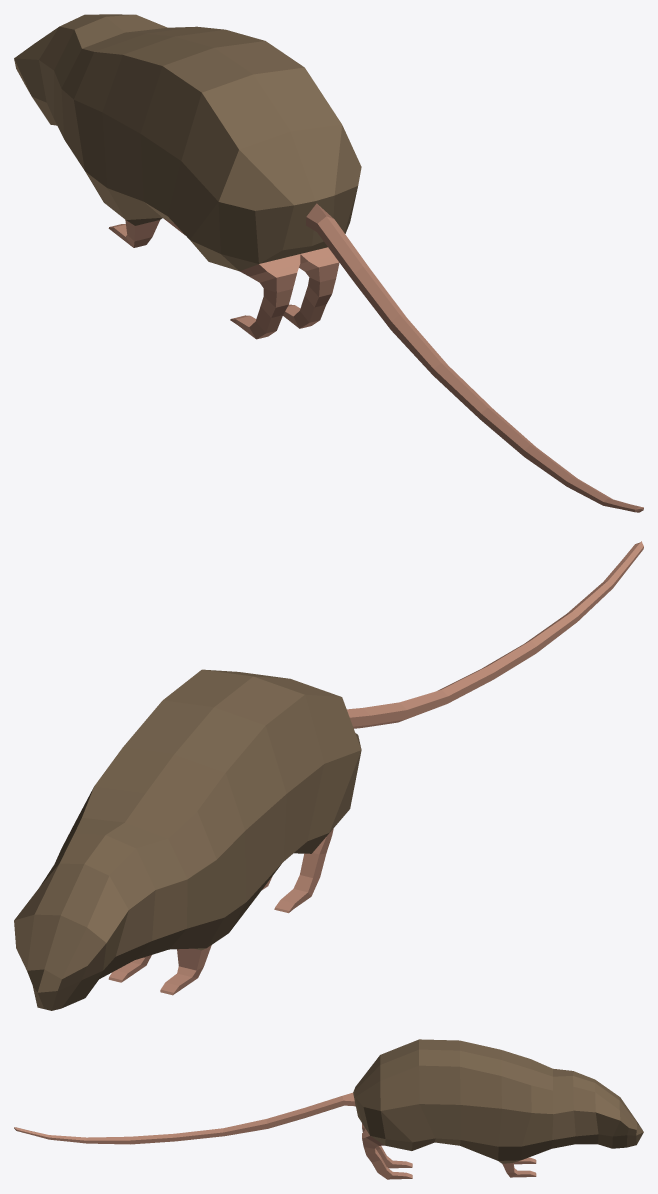
The model's file is mouse7.glb.
3 views of the same model, one above another, from view 1: azimuth 30°, elevation 25°; view 2: azimuth 150°, elevation 25°; view 3: azimuth 270°, elevation 25° (orthographic). The views are drawn at different scales.
Visible parts, largest first — view 1: Mouse; view 2: Mouse; view 3: Mouse.
Boxes of the visible parts, left/top/right/bottom form: Mouse: left=14, top=14, right=643, bottom=512; Mouse: left=14, top=541, right=643, bottom=1010; Mouse: left=14, top=1039, right=643, bottom=1179.
Size of the model in its own units: 0.0285 by 0.0441 by 0.2046.
